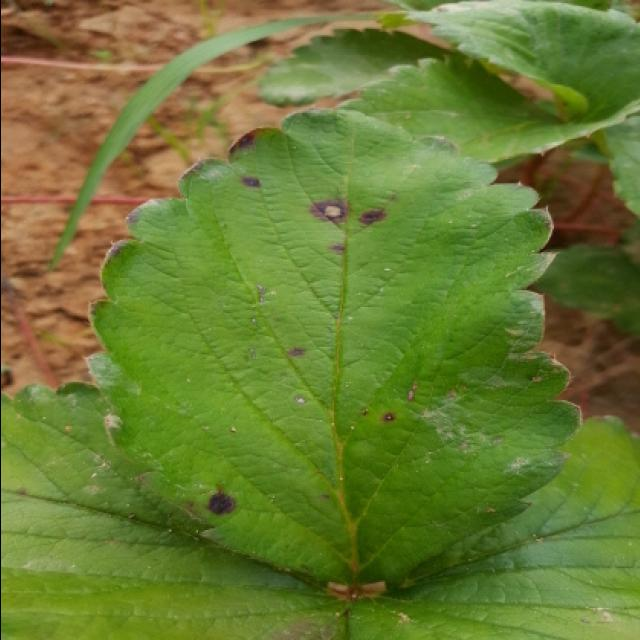Leaf Spot: (76, 105, 581, 600), (2, 383, 351, 638), (344, 417, 640, 638)
